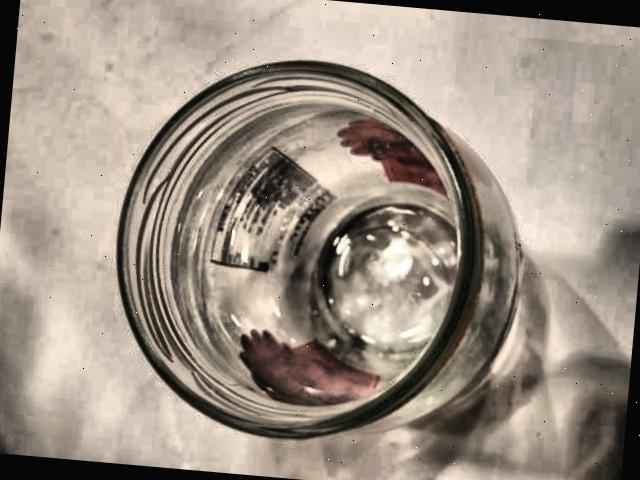Almennt: (72, 34, 548, 466)
